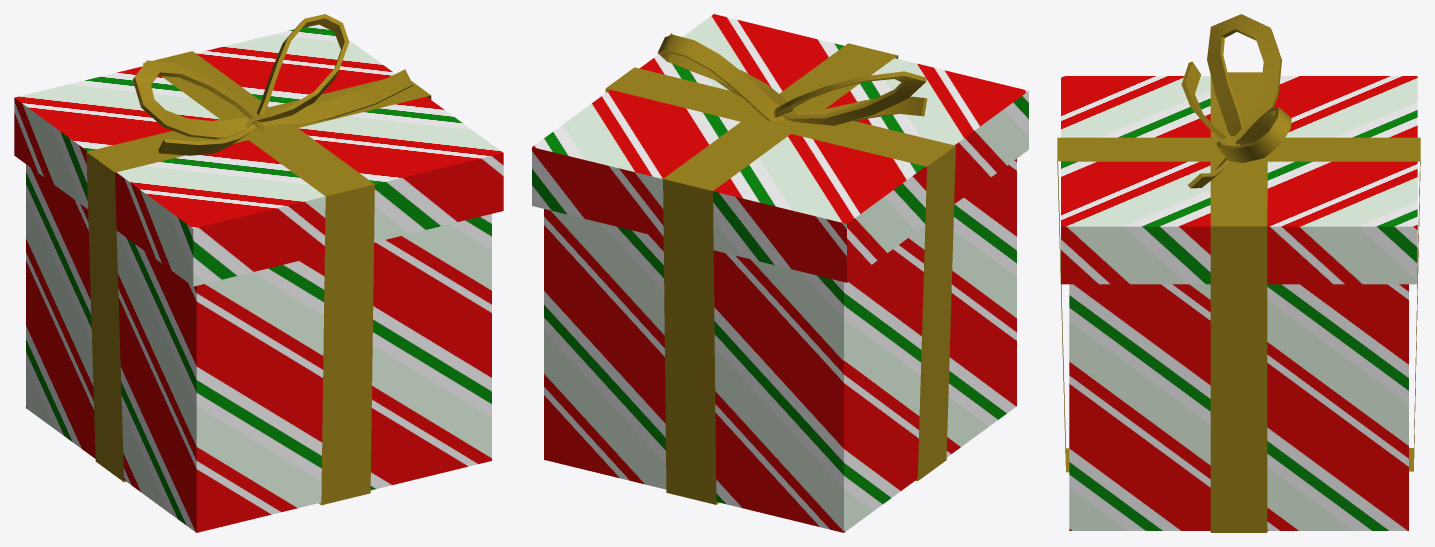
The model's file is gift 01 ribbon01.fbx.
3 renders of one model, left to right at view 1: azimuth 30°, elevation 25°; view 2: azimuth 150°, elevation 25°; view 3: azimuth 270°, elevation 25°, orthographic.
Parts seen in each view (by area): view 1: gift, ribbon, Gift01; view 2: gift, ribbon, Gift01; view 3: gift, ribbon, Gift01.
Boxes of the visible parts, bbox=[...] form: gift: bbox=[14, 24, 503, 532]; ribbon: bbox=[86, 51, 431, 505]; Gift01: bbox=[133, 14, 413, 155]; gift: bbox=[532, 14, 1028, 532]; ribbon: bbox=[605, 43, 955, 504]; Gift01: bbox=[657, 33, 927, 125]; gift: bbox=[1061, 76, 1417, 530]; ribbon: bbox=[1057, 72, 1420, 532]; Gift01: bbox=[1181, 14, 1291, 188].
Bounding box in the file's own units: 32.14 × 37.66 × 32.07.
2 materials, 1 textured.
